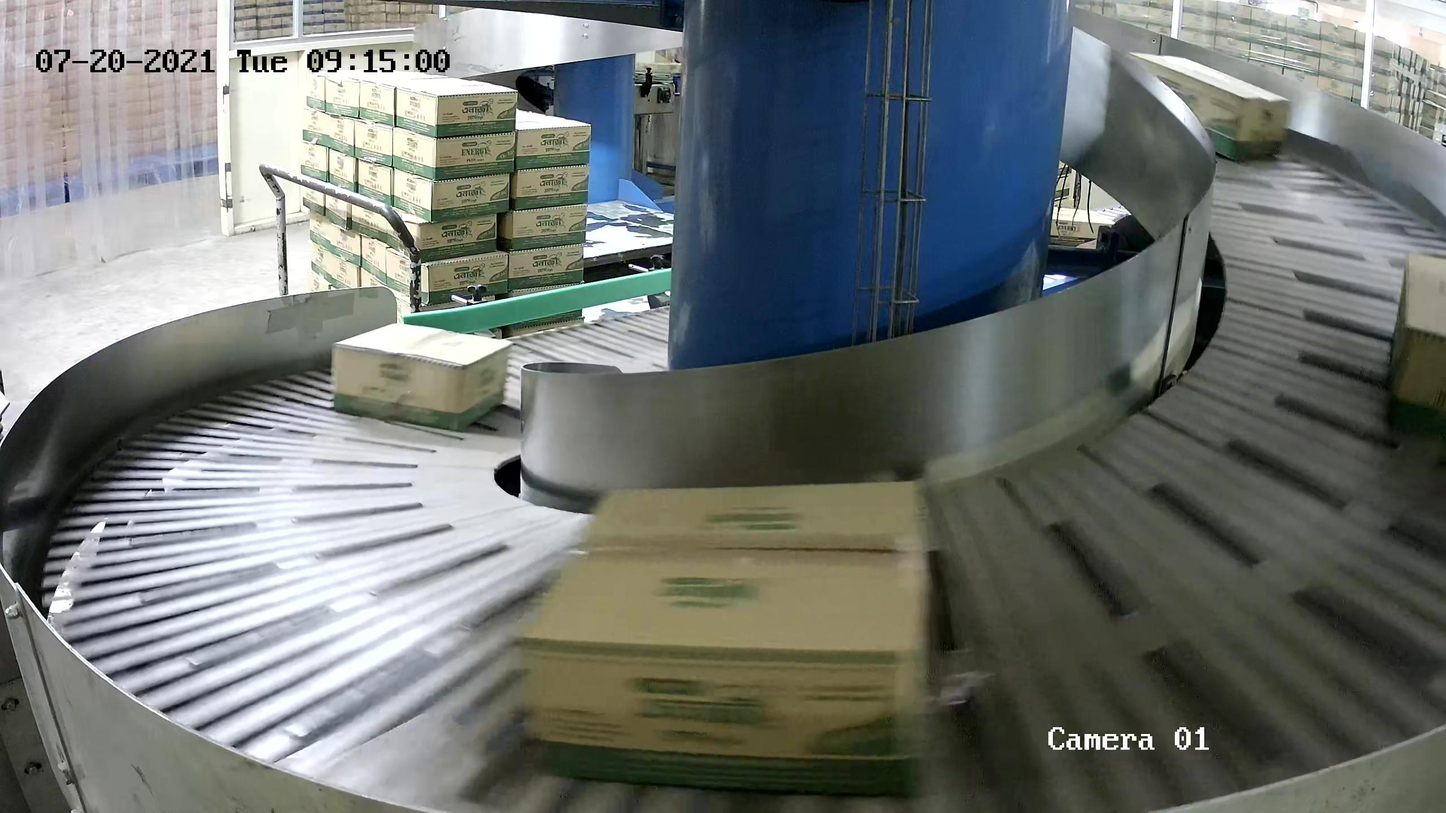Box: (516, 480, 932, 800), (1114, 52, 1293, 174), (329, 322, 515, 433)
